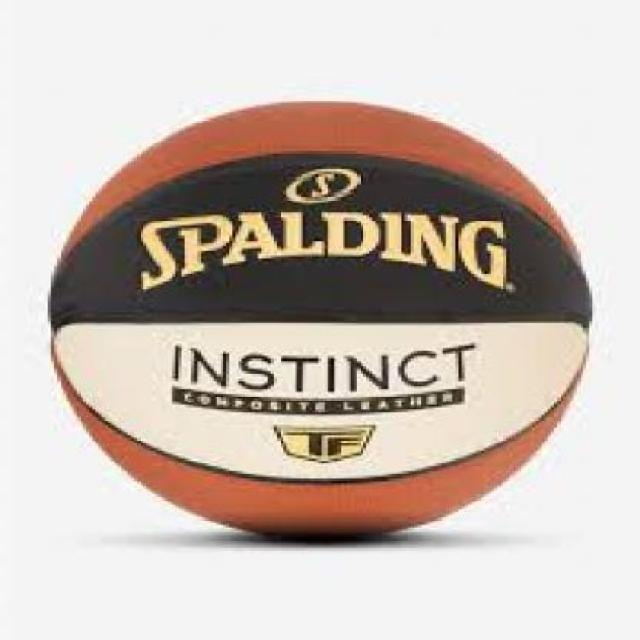basketball: (54, 104, 592, 532)
